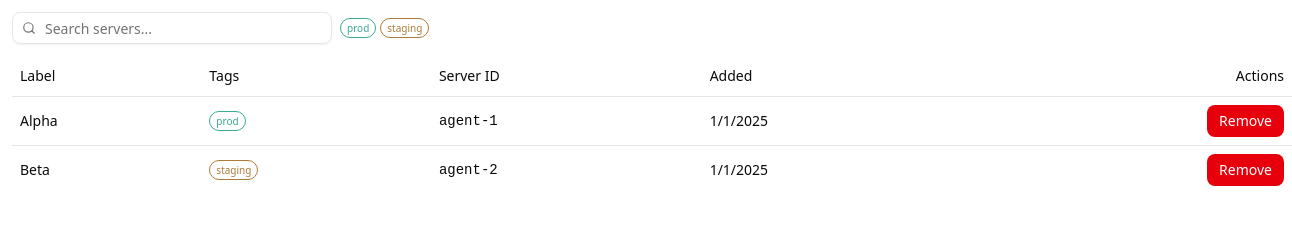
Test case: ServerList › clicking tags enters tag edit mode with Done button
The width and height of the screenshot is (1292, 249).
Click the button titled "Click to edit tags" at (228, 121), box [209,111,246,131]
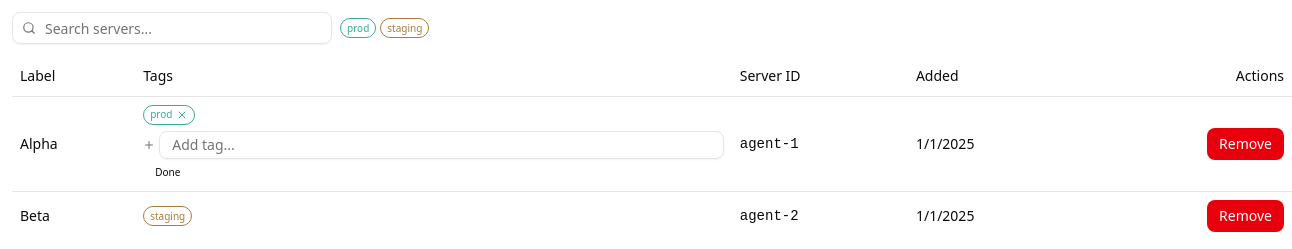
Expected: the button "Done" is shown, [143,162,192,182]
